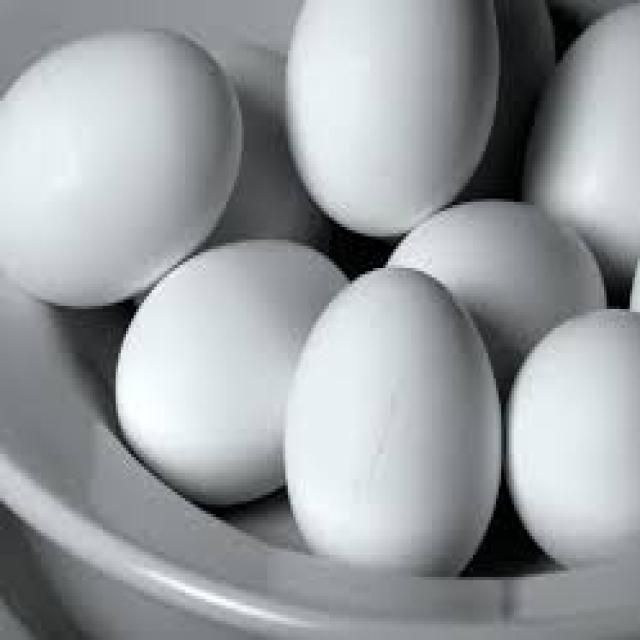White Egg: (1, 12, 251, 318), (283, 260, 505, 574), (114, 232, 352, 511), (285, 0, 510, 242), (506, 299, 640, 568)
